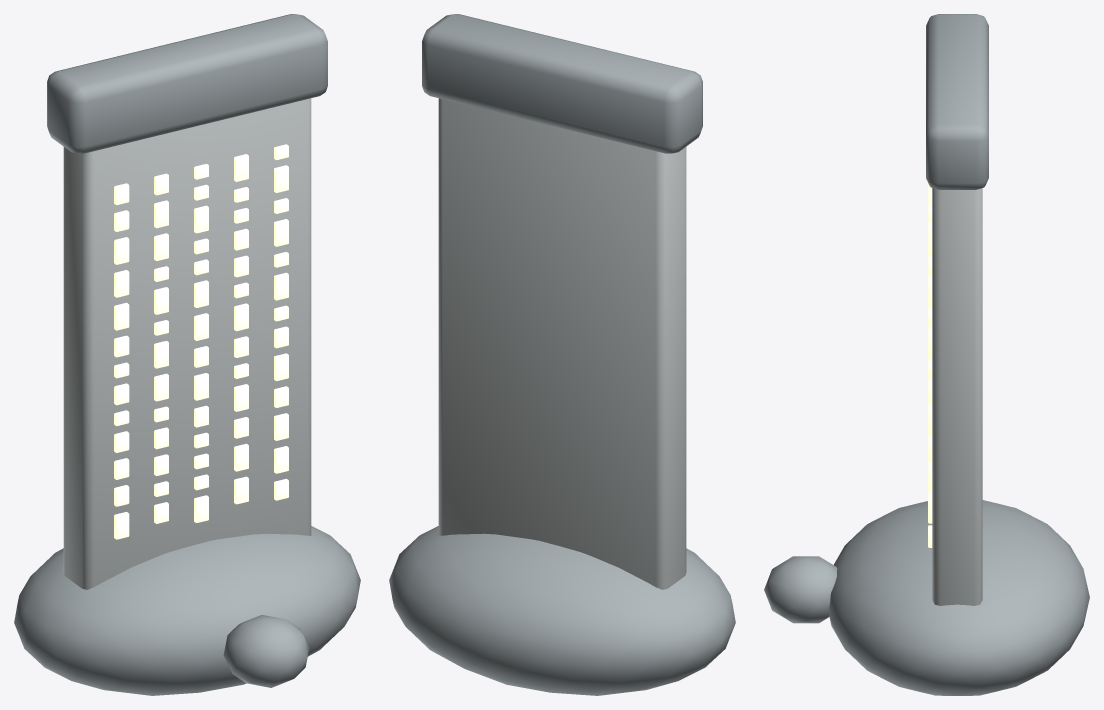
Rendered from stele.glb.
The picture shows the model from 3 angles, left to right: view 1: azimuth 30°, elevation 25°; view 2: azimuth 150°, elevation 25°; view 3: azimuth 270°, elevation 25°; orthographic projection. The views are drawn at different scales.
Visible parts, largest first — view 1: Slab, Turtle, Cap, TurtleHead; view 2: Slab, Turtle, Cap; view 3: Turtle, Slab, Cap, TurtleHead.
Part boxes in pixels (x1,y1,x2,y2): Slab: [63, 98, 311, 589]; Turtle: [14, 526, 360, 695]; Cap: [47, 14, 327, 153]; TurtleHead: [223, 615, 309, 687]; Slab: [438, 98, 686, 589]; Turtle: [389, 526, 735, 695]; Cap: [422, 14, 702, 153]; Turtle: [828, 500, 1089, 695]; Slab: [932, 188, 982, 605]; Cap: [926, 14, 988, 189]; TurtleHead: [764, 556, 837, 623].
Bounding box in the file's own units: 1.68 × 3.12 × 1.55.
